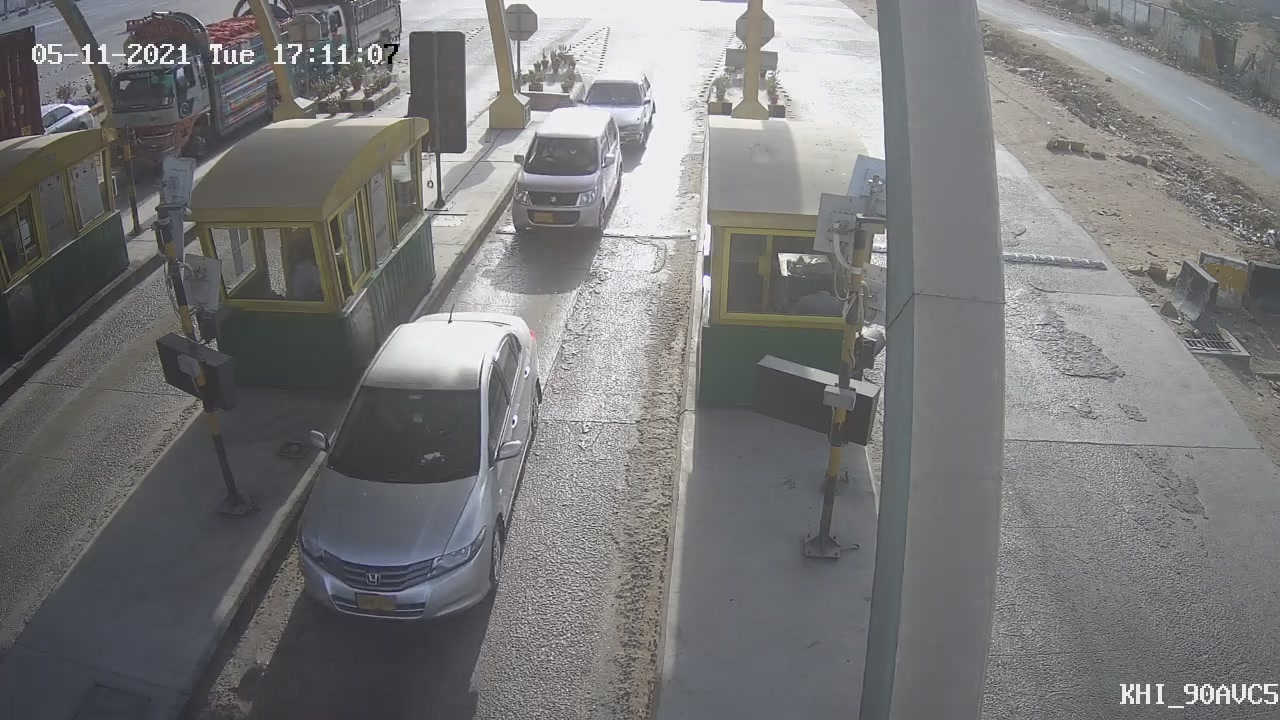F1: (490, 96, 638, 256)
